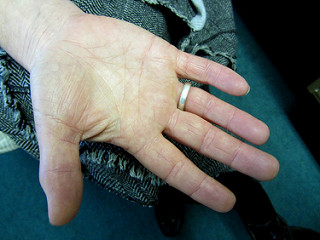palm: (42, 23, 181, 147)
